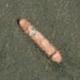ship: (0, 0, 26, 30)
